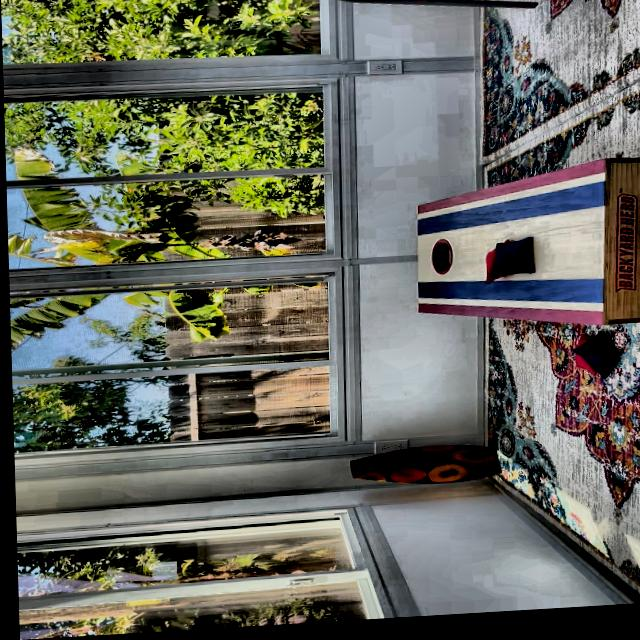blue-bean-bag: (570, 338, 613, 387), (488, 244, 533, 283)
board: (414, 189, 599, 326)
hole: (427, 244, 452, 281)
red-bean-bag: (481, 244, 510, 289), (568, 340, 594, 383)
